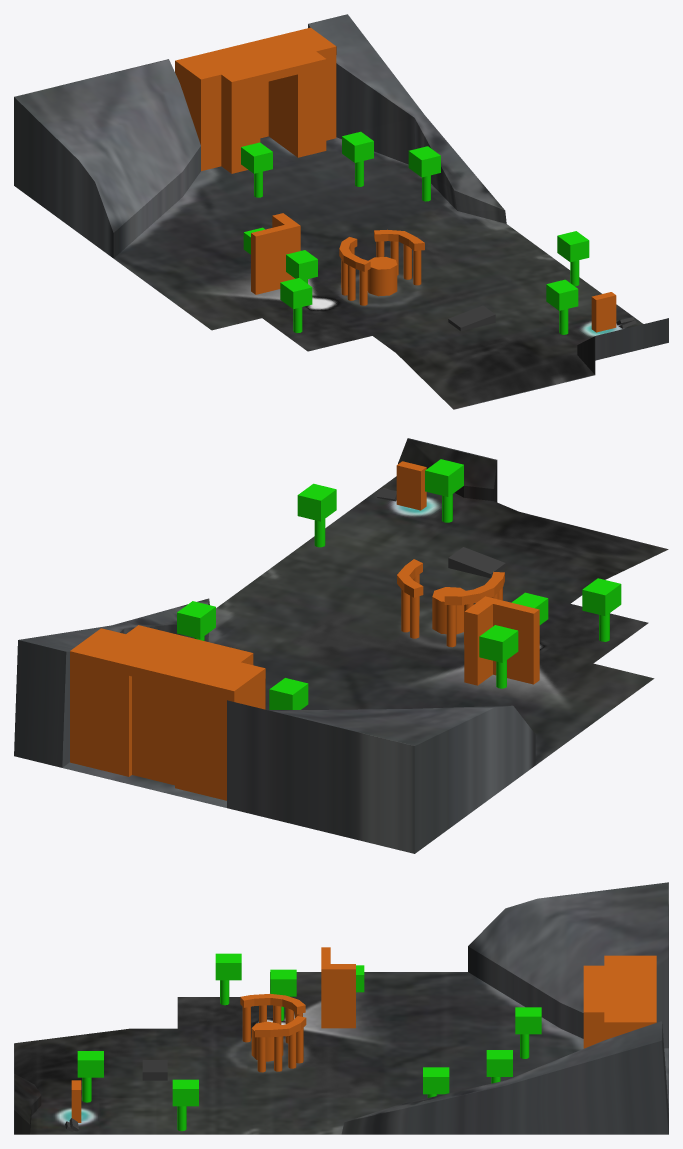
File: Esbós.FBX
3 renders of one model, top to bottom at view 1: azimuth 30°, elevation 25°; view 2: azimuth 150°, elevation 25°; view 3: azimuth 270°, elevation 25°, orthographic. The views are drawn at different scales.
Visible parts, largest first — view 1: Plane001, Portón, Box001, Box004, Fuente, Árbol, Árbol007, Árbol003, Árbol006, Árbol004, Árbol005, Buzón (+2 smaller); view 2: Plane001, Portón, Box001, Box004, Árbol003, Árbol007, Árbol002, Árbol, Buzón, Árbol006, Árbol004, Roca (+1 smaller); view 3: Plane001, Portón, Box001, Box004, Árbol003, Árbol007, Árbol004, Árbol, Árbol005, Árbol001, Árbol006, Roca (+2 smaller).
Part boxes in pixels (x1=…): Plane001: x1=14, y1=14, x2=668, y2=409; Portón: x1=175, y1=27, x2=336, y2=173; Box001: x1=251, y1=213, x2=300, y2=294; Box004: x1=339, y1=229, x2=424, y2=271; Fuente: x1=367, y1=257, x2=397, y2=296; Árbol: x1=546, y1=279, x2=578, y2=334; Árbol007: x1=280, y1=278, x2=312, y2=332; Árbol003: x1=557, y1=231, x2=589, y2=286; Árbol006: x1=408, y1=146, x2=440, y2=201; Árbol004: x1=241, y1=142, x2=272, y2=197; Árbol005: x1=342, y1=131, x2=373, y2=186; Buzón: x1=591, y1=292, x2=616, y2=332; Plane001: x1=14, y1=438, x2=668, y2=853; Portón: x1=70, y1=625, x2=265, y2=800; Box001: x1=464, y1=596, x2=539, y2=685; Box004: x1=397, y1=559, x2=504, y2=605; Árbol003: x1=297, y1=483, x2=336, y2=547; Árbol007: x1=582, y1=578, x2=621, y2=641; Árbol002: x1=479, y1=625, x2=518, y2=688; Árbol: x1=425, y1=459, x2=463, y2=522; Buzón: x1=396, y1=461, x2=426, y2=510; Árbol006: x1=177, y1=601, x2=215, y2=640; Árbol004: x1=269, y1=678, x2=308, y2=709; Roca: x1=448, y1=547, x2=505, y2=578; Plane001: x1=14, y1=882, x2=668, y2=1134; Portón: x1=583, y1=955, x2=656, y2=1048; Box001: x1=321, y1=947, x2=355, y2=1028; Box004: x1=240, y1=993, x2=306, y2=1037; Árbol003: x1=172, y1=1079, x2=198, y2=1131; Árbol007: x1=215, y1=953, x2=241, y2=1005; Árbol004: x1=515, y1=1007, x2=541, y2=1058; Árbol: x1=77, y1=1051, x2=103, y2=1102; Árbol005: x1=486, y1=1050, x2=512, y2=1083; Árbol001: x1=270, y1=969, x2=296, y2=1020; Árbol006: x1=423, y1=1067, x2=449, y2=1097; Roca: x1=142, y1=1060, x2=167, y2=1080.
Size of the model in its own units: 82.28 by 25.67 by 140.
Materials: 4 (1 with a texture image).
